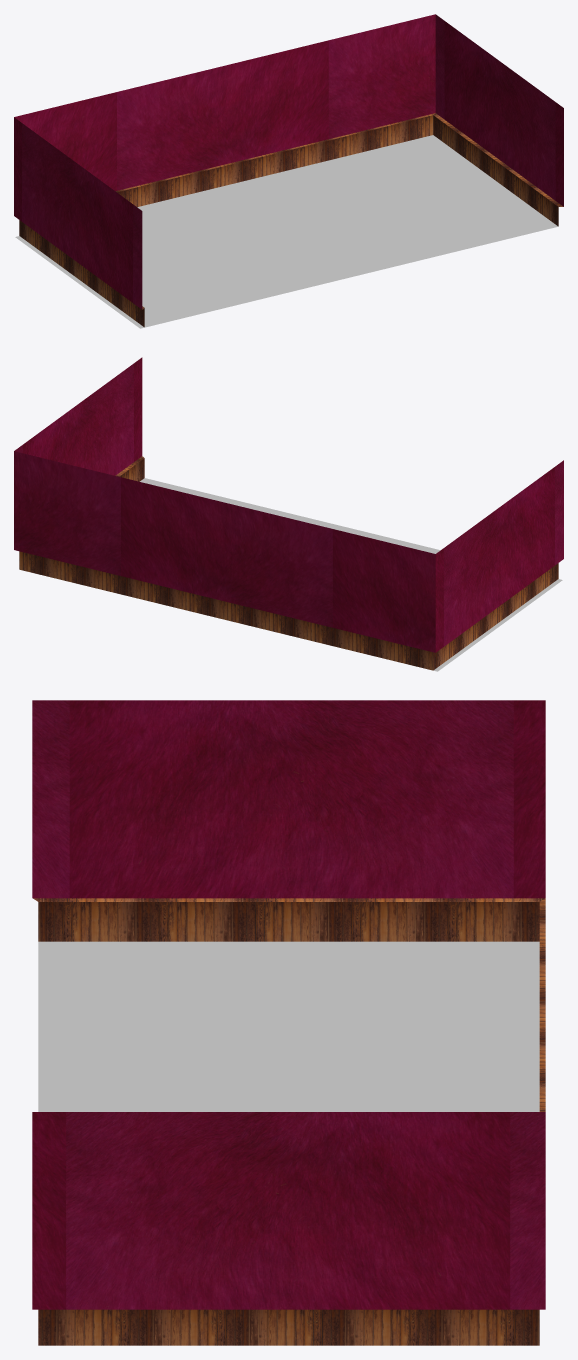
Rendered from lobby.fbx.
3 renders of one model, top to bottom at view 1: azimuth 30°, elevation 25°; view 2: azimuth 150°, elevation 25°; view 3: azimuth 270°, elevation 25°, orthographic. The views are drawn at different scales.
Visible parts, largest first — view 1: room, room.001; view 2: room, room.001; view 3: room, room.001.
Part boxes in pixels (x1=…): room: x1=14, y1=14, x2=563, y2=327; room.001: x1=15, y1=135, x2=557, y2=328; room: x1=14, y1=357, x2=563, y2=670; room.001: x1=140, y1=478, x2=562, y2=671; room: x1=32, y1=700, x2=545, y2=1345; room.001: x1=38, y1=941, x2=539, y2=1111.
Bounding box in the file's own units: 23.35 × 12.29 × 6.27.
